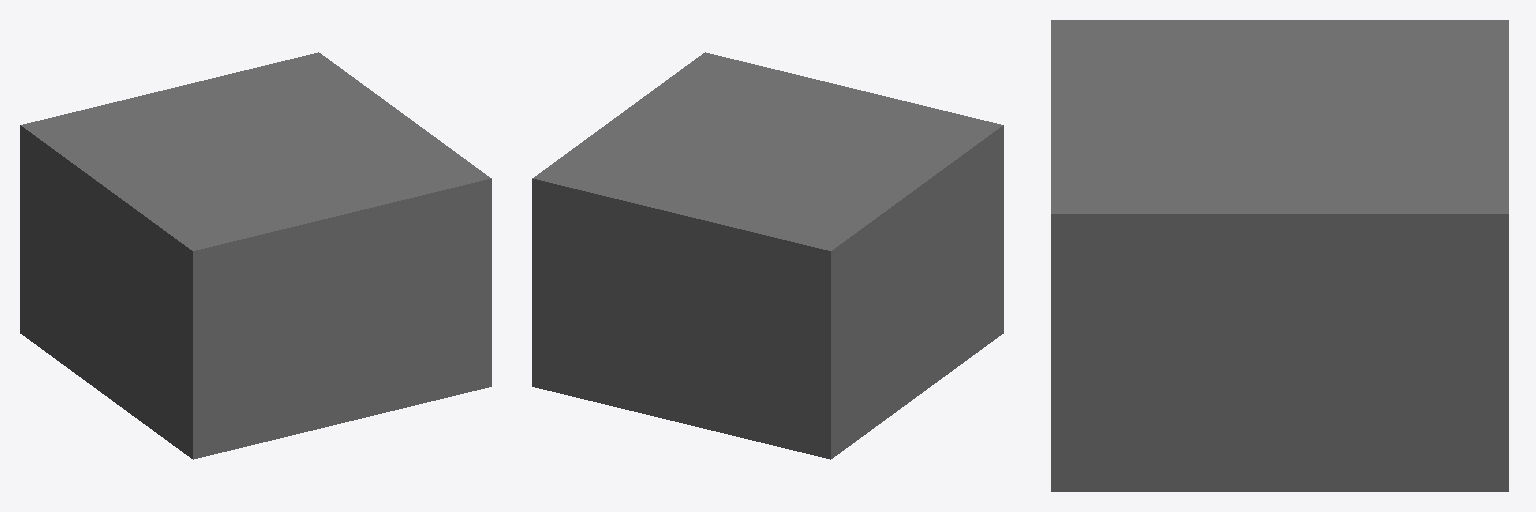
URDF robot description (cnc_machine):
<?xml version="1.0"?>
<robot name="cnc_machine">
  <link name="cnc_body">
    <visual>
      <geometry>
        <box size="0.3 0.3 0.2"/>
      </geometry>
      <material name="gray">
        <color rgba="0.5 0.5 0.5 1"/>
      </material>
    </visual>
    <collision>
      <geometry>
        <box size="0.3 0.3 0.2"/>
      </geometry>
    </collision>
    <inertial>
      <mass value="10.0"/>
      <inertia ixx="0.1" ixy="0" ixz="0" iyy="0.1" iyz="0" izz="0.1"/>
    </inertial>
  </link>
  
  <gazebo reference="cnc_body">
    <material>Gazebo/Grey</material>
    <static>true</static> </gazebo>
</robot>

--- Render facts (derived) ---
The picture shows the robot from 3 angles, left to right: view 1: azimuth 30°, elevation 25°; view 2: azimuth 150°, elevation 25°; view 3: azimuth 270°, elevation 25°; orthographic projection.
Model cnc_machine with 1 links and 0 joints (none), rooted at cnc_body, posed all joints at 0.
Links seen in each view (by area): view 1: cnc_body; view 2: cnc_body; view 3: cnc_body.
Link boxes in pixels (x1=…): cnc_body: x1=20, y1=52, x2=491, y2=459; cnc_body: x1=532, y1=52, x2=1003, y2=459; cnc_body: x1=1051, y1=20, x2=1508, y2=491.
Size in the robot's own frame: 0.3 by 0.3 by 0.2 metres.
Geometry: primitives only (box / cylinder / sphere), no mesh files.
